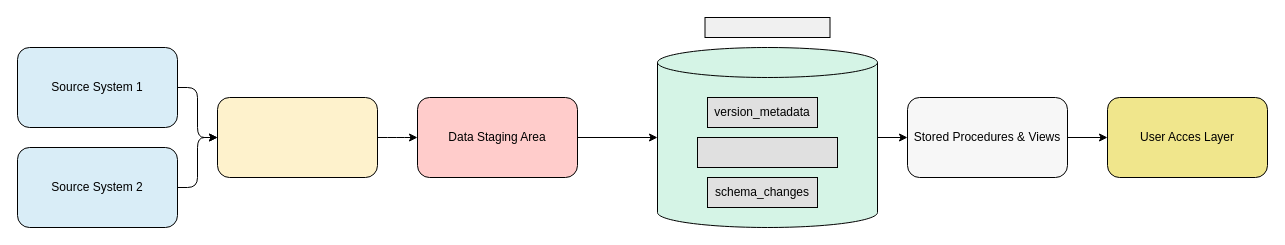
The diagram is 1285 pixels wide and 245 high, and some of its shapes have lost their labels. Each missing label, with the box of its shape:
customer_transactions: (696, 136, 838, 168)
Data Warehouse: (704, 16, 830, 38)
ETL Process: (216, 96, 378, 178)
